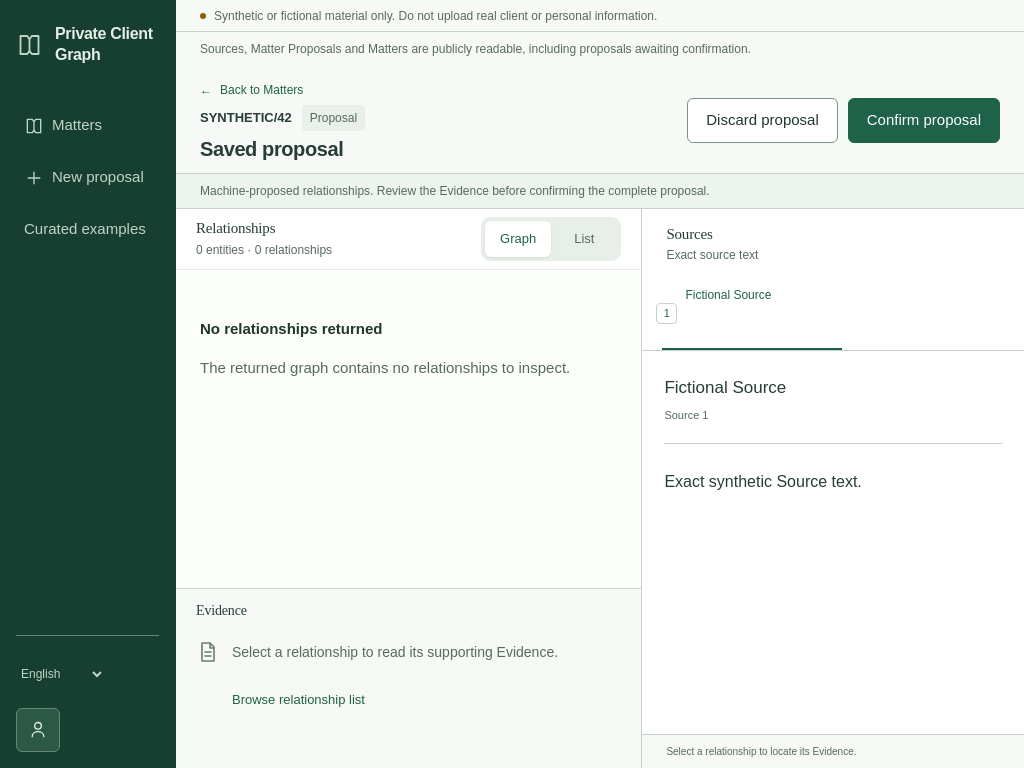
Scenario: retains readable pending Sources after sign-out and removes mutation actions without redirecting
Expected: the button "Confirm proposal" is shown, 848,98 -> 1000,142
Click the button named "Account menu". click: (38, 730)
box: 16,708 -> 60,752
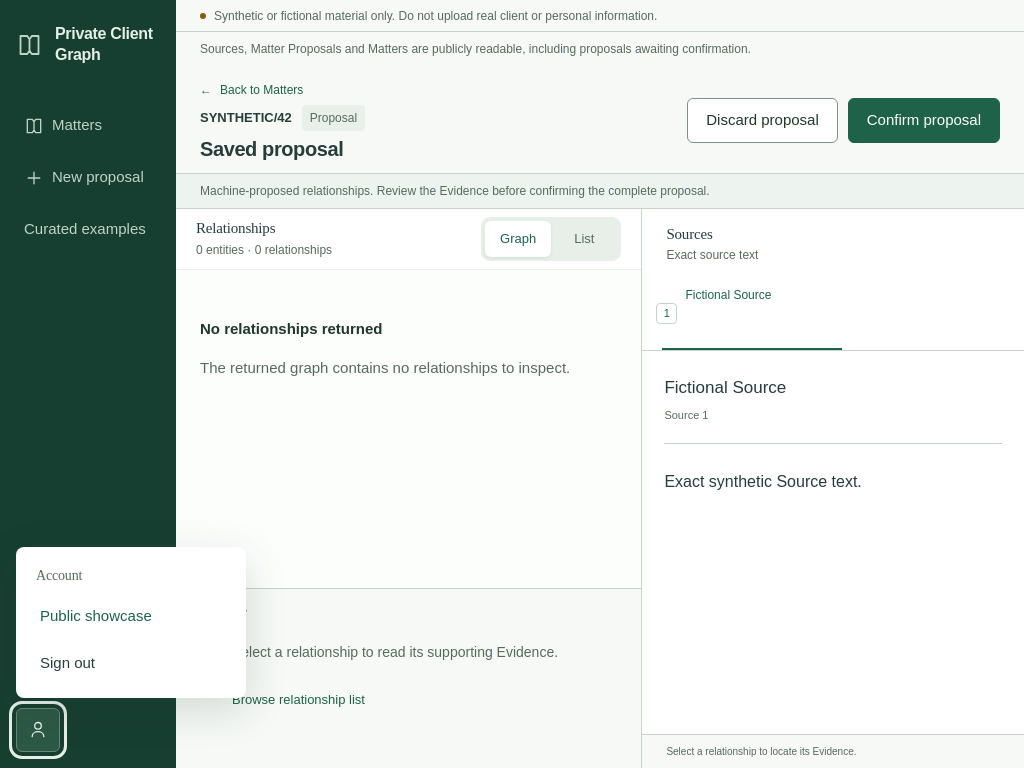
Click the button "Sign out". click: (131, 663)
box: 28,640 -> 234,686
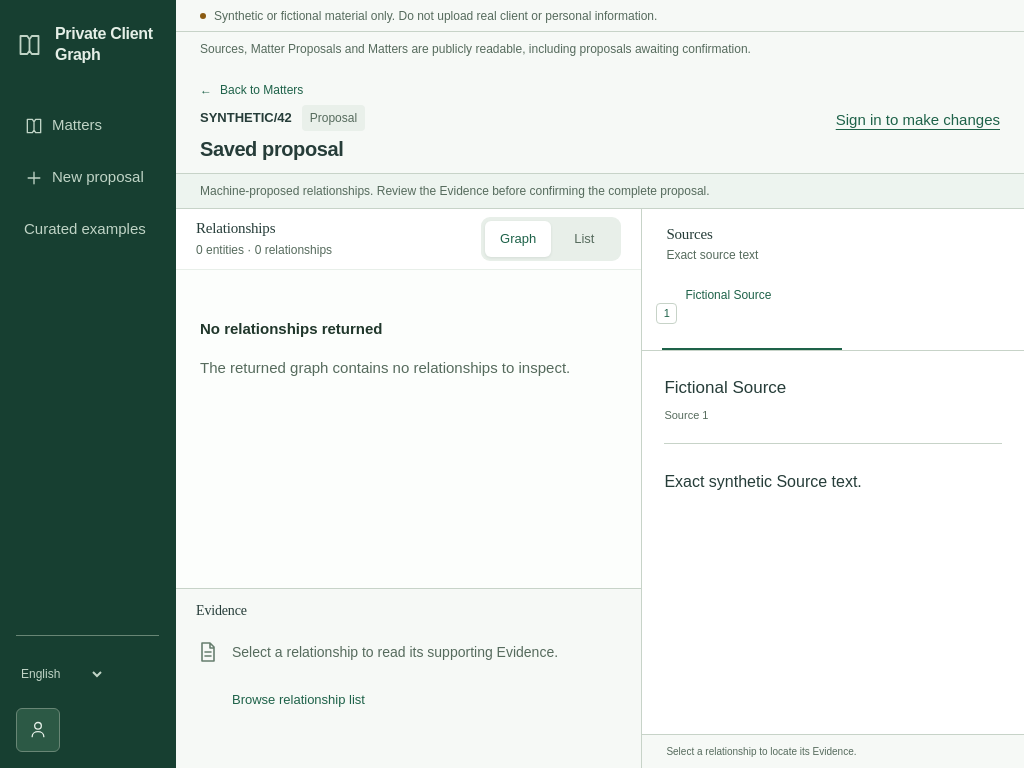
Expected: the heading "Saved proposal" is shown, 200,136 -> 365,163
Expected: the button "Confirm proposal" is gone
